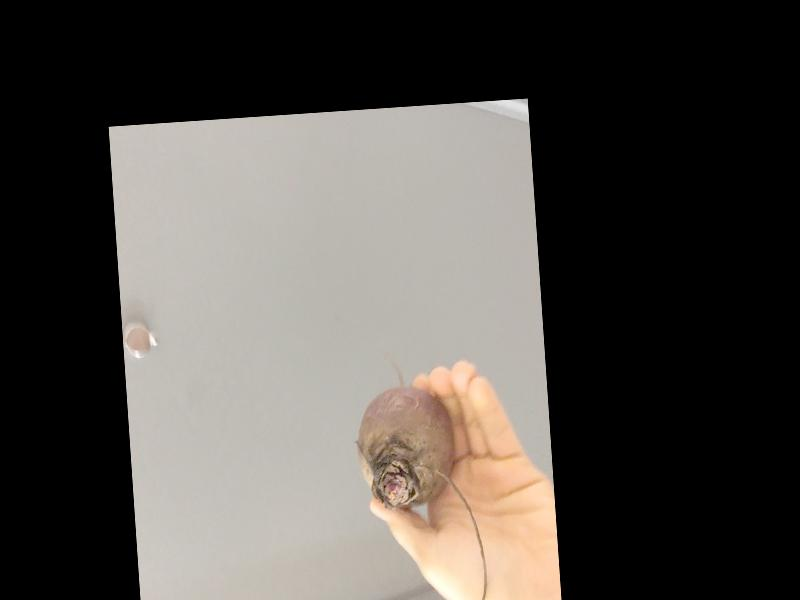Beet: (352, 348, 492, 600)
